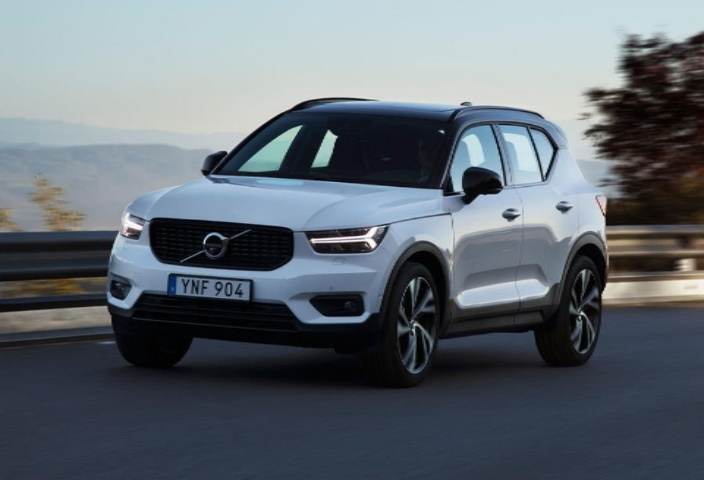camper: (81, 77, 625, 411)
